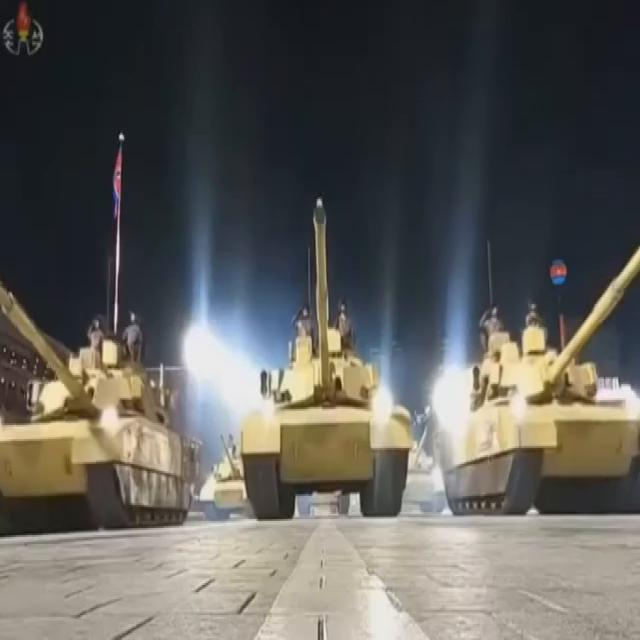north tank: (430, 192, 640, 525), (230, 193, 420, 533), (0, 214, 199, 538)
